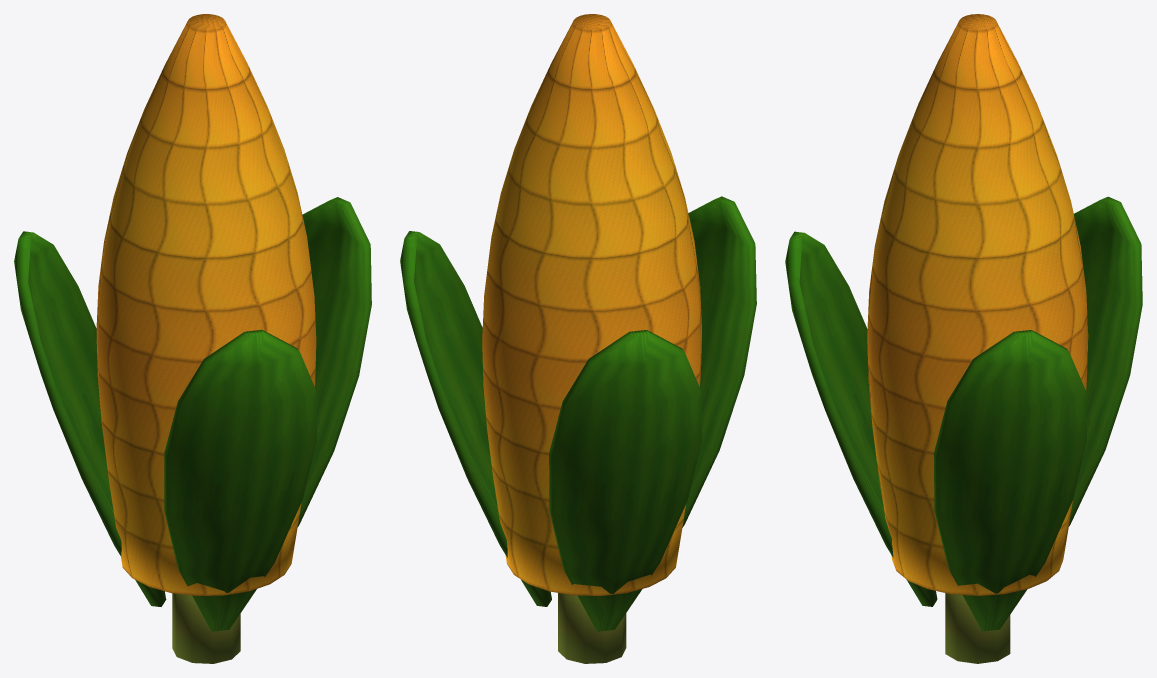
The model's file is corn.glb.
3 views of the same model, side by side, from view 1: azimuth 30°, elevation 25°; view 2: azimuth 150°, elevation 25°; view 3: azimuth 270°, elevation 25° (orthographic).
Parts seen in each view (by area): view 1: corn; view 2: corn; view 3: corn.
Part boxes in pixels (left/top/right/bottom): corn: left=14, top=14, right=371, bottom=663; corn: left=400, top=14, right=756, bottom=663; corn: left=785, top=14, right=1142, bottom=663.
Bounding box in the file's own units: 0.5161 × 1 × 0.5164.
Materials: 1 (1 with a texture image).
